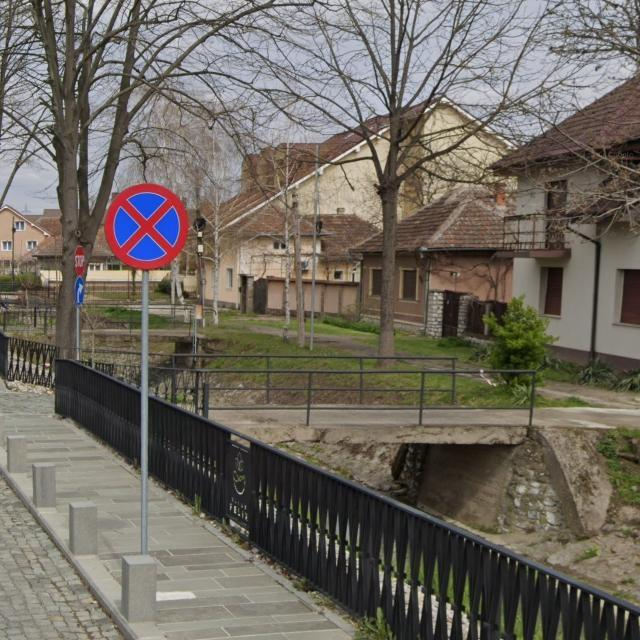forb_waiting: (104, 182, 190, 269)
prio_stop: (73, 246, 87, 276)
